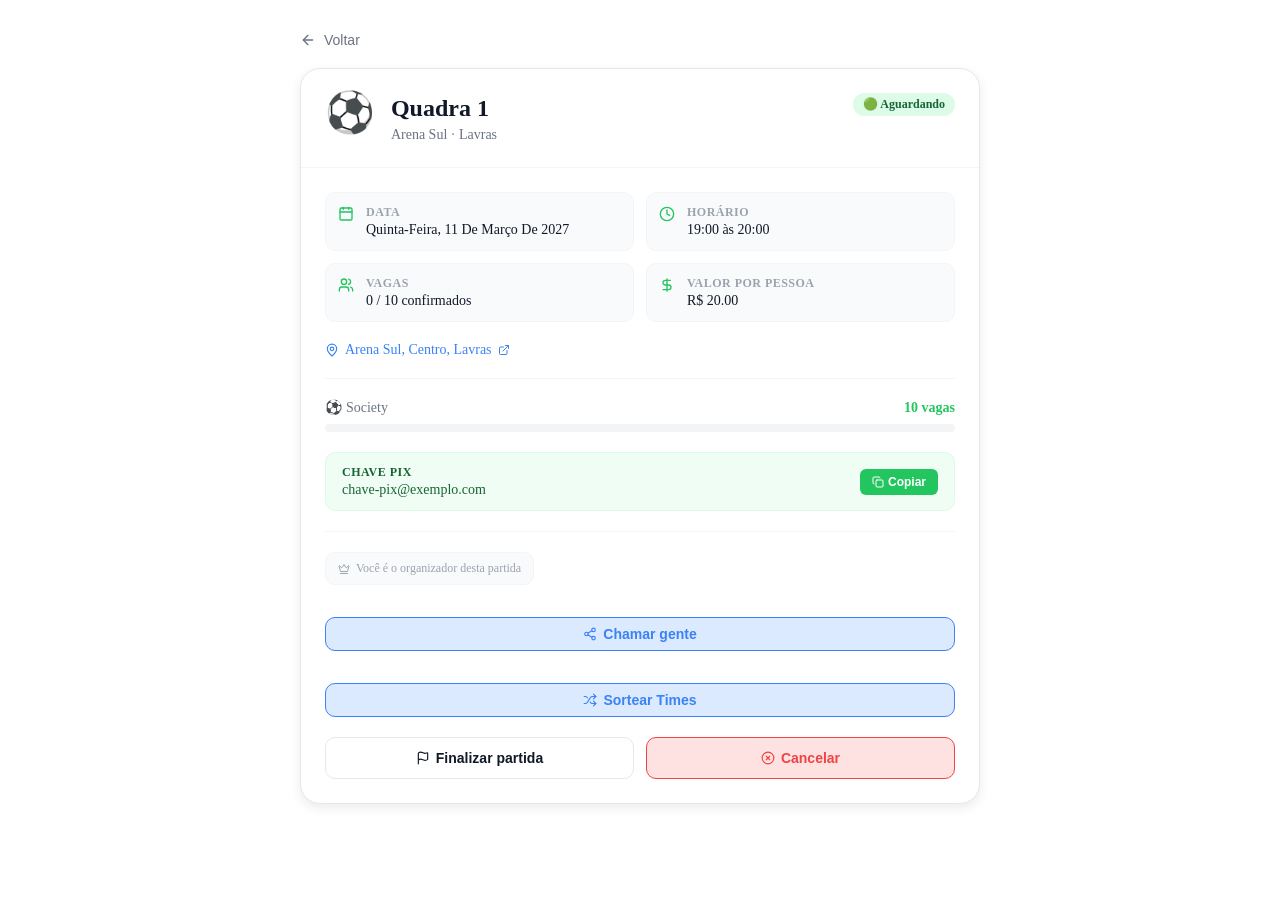
PartidaDetail — sorteio de times › abre o modal sem sortear nada antes de o organizador mandar
The image size is (1280, 900).
Click the button "Sortear Times". click: (640, 700)
box: [325,683,955,717]
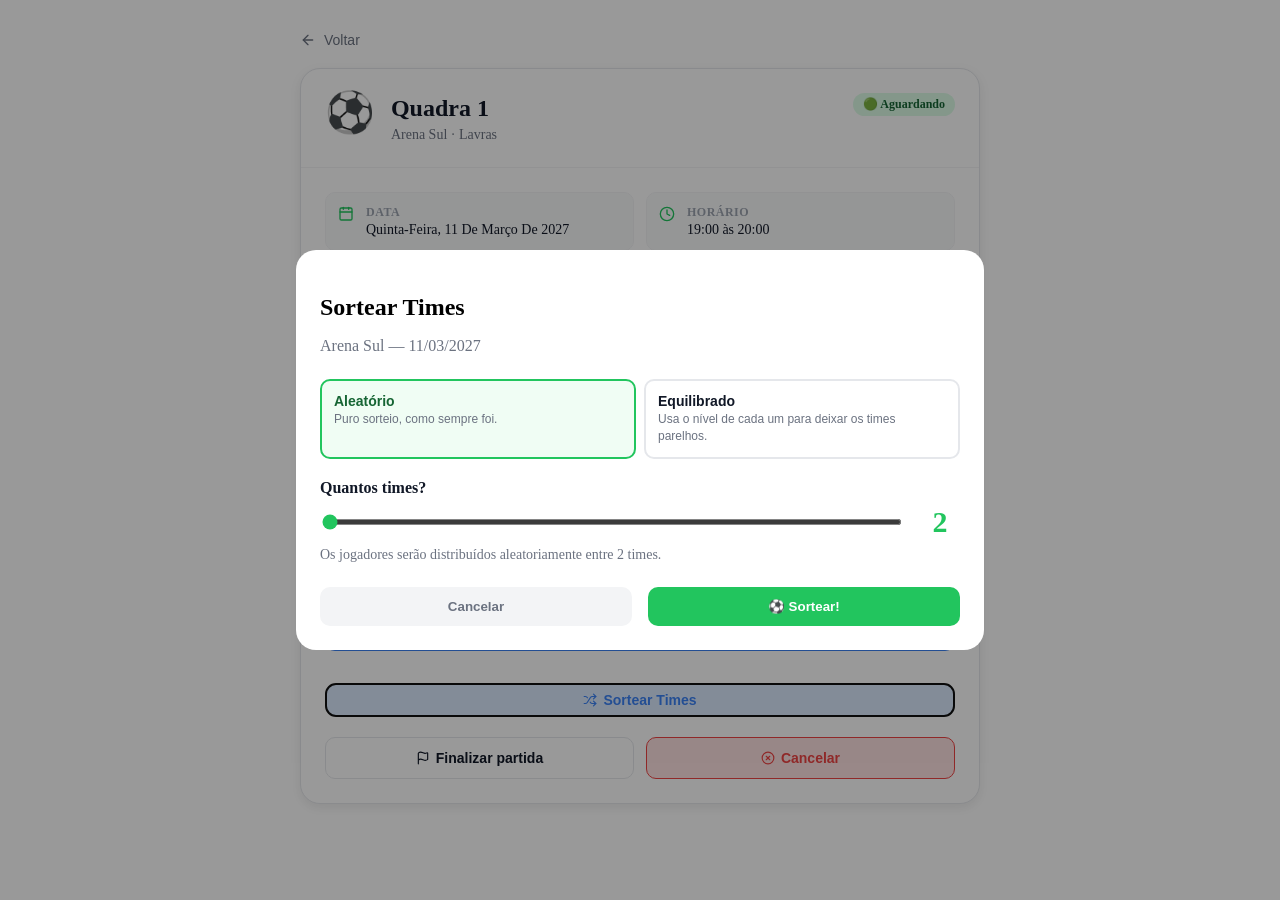
Result: the heading "Sortear Times" is shown at [320,294,465,320]
Result: the slider holds "2" at [322,519,902,525]
